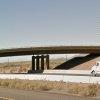Bridge: (4, 36, 99, 71)
